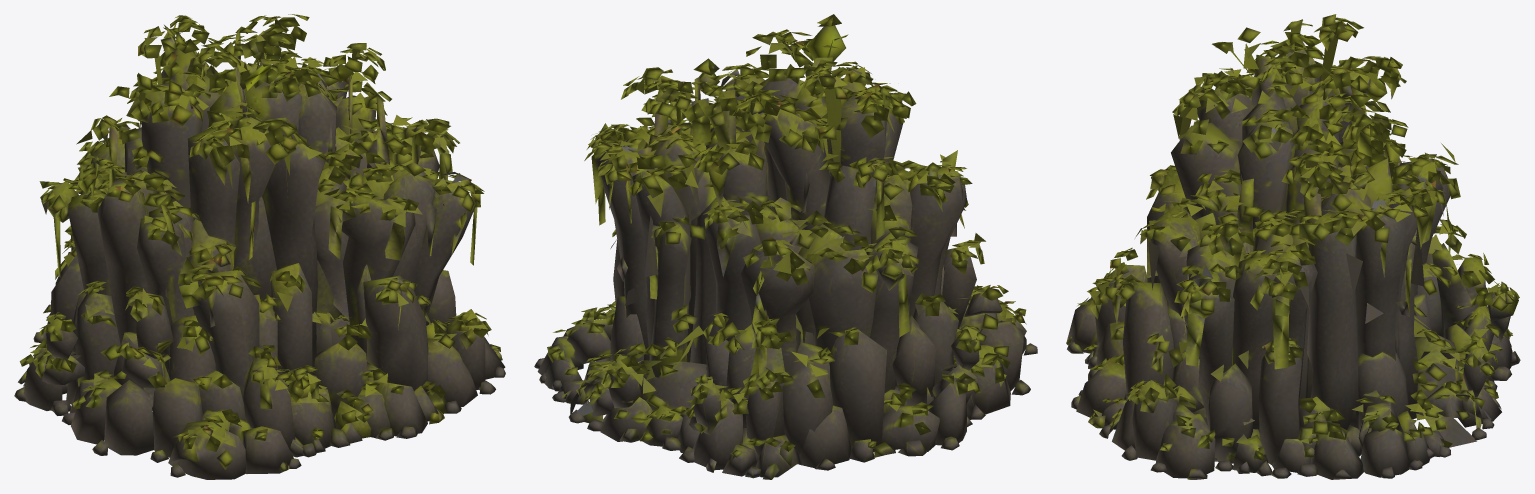
The model's file is planted-cliff.glb.
3 views of the same model, side by side, from view 1: azimuth 30°, elevation 25°; view 2: azimuth 150°, elevation 25°; view 3: azimuth 270°, elevation 25° (orthographic).
Parts seen in each view (by area): view 1: planted-cliff; view 2: planted-cliff; view 3: planted-cliff.
Part boxes in pixels (x1,y1,x2,y2): planted-cliff: [14, 14, 505, 479]; planted-cliff: [534, 14, 1037, 479]; planted-cliff: [1066, 14, 1520, 479].
Size of the model in its own units: 1 by 0.8202 by 0.9892.
Materials: 1 (1 with a texture image).
